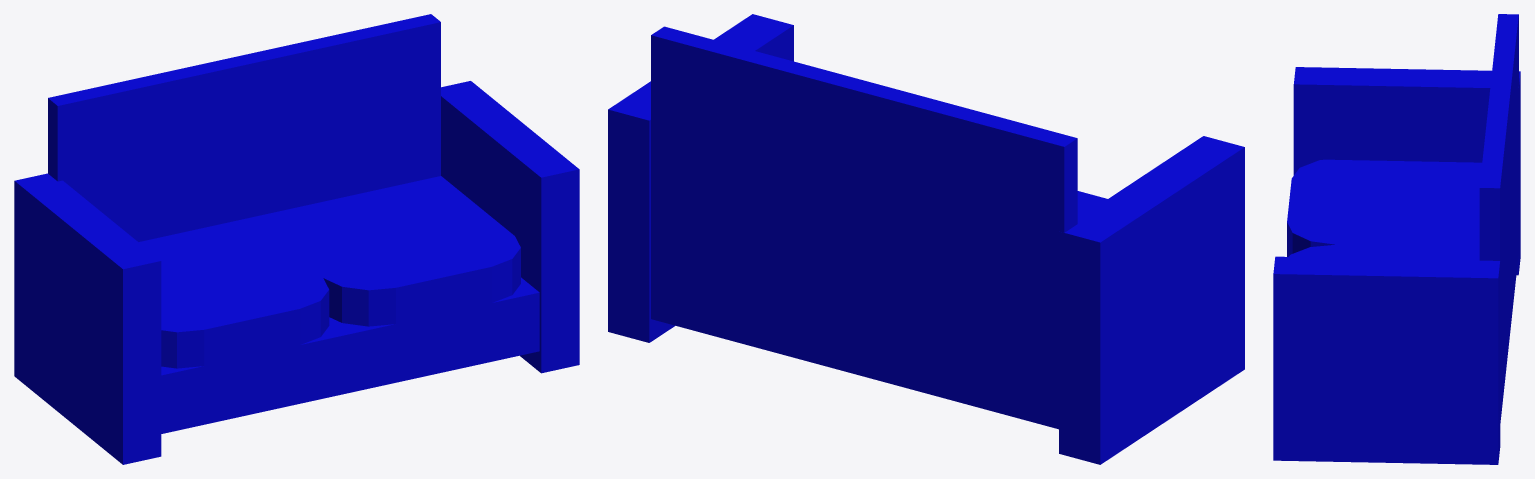
Rendered from couch.fbx.
The picture shows the model from 3 angles, left to right: view 1: azimuth 30°, elevation 25°; view 2: azimuth 150°, elevation 25°; view 3: azimuth 270°, elevation 25°; orthographic projection. The views are drawn at different scales.
Parts seen in each view (by area): view 1: couch; view 2: couch; view 3: couch.
Boxes of the visible parts, <box> form: couch: <box>14,14,579,464</box>; couch: <box>608,14,1244,464</box>; couch: <box>1273,14,1520,464</box>.
Size of the model in its own units: 0.0267 by 0.0152 by 0.0132.
